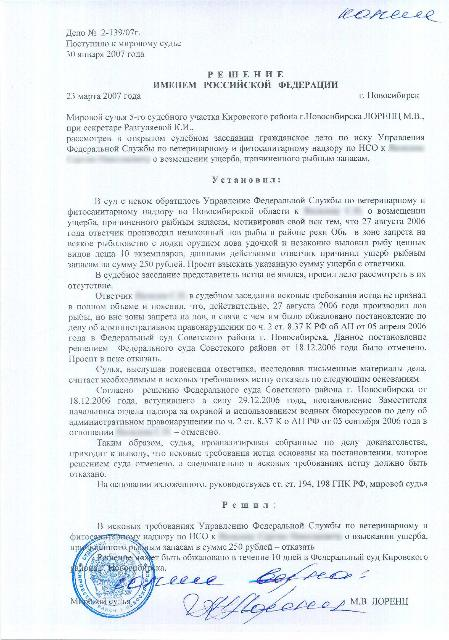stamp: (73, 533, 154, 619)
